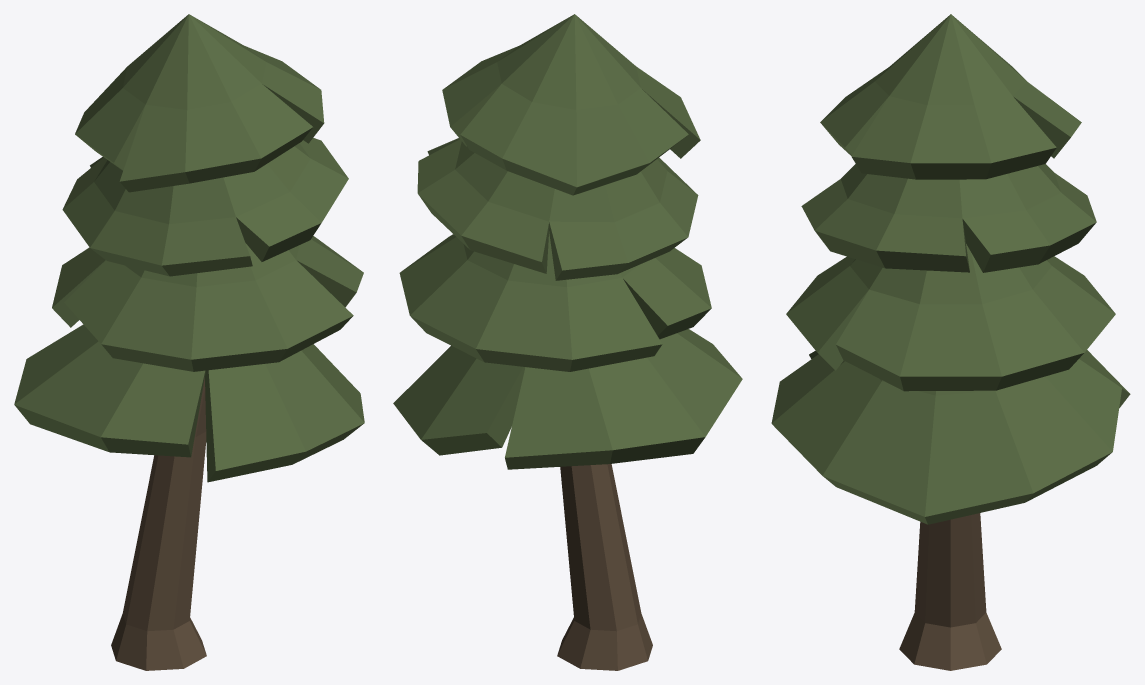
The model's file is SM_Envr_Nature_Tree_Pine_04.fbx.
3 renders of one model, left to right at view 1: azimuth 30°, elevation 25°; view 2: azimuth 150°, elevation 25°; view 3: azimuth 270°, elevation 25°, orthographic. The views are drawn at different scales.
Visible parts, largest first — view 1: SM_Envr_Nature_Tree_Pine_04; view 2: SM_Envr_Nature_Tree_Pine_04; view 3: SM_Envr_Nature_Tree_Pine_04.
Part boxes in pixels (<box>): SM_Envr_Nature_Tree_Pine_04: <box>14,14,364,670</box>; SM_Envr_Nature_Tree_Pine_04: <box>393,14,742,670</box>; SM_Envr_Nature_Tree_Pine_04: <box>771,14,1130,670</box>.
Size of the model in its own units: 342 by 659 by 330.
